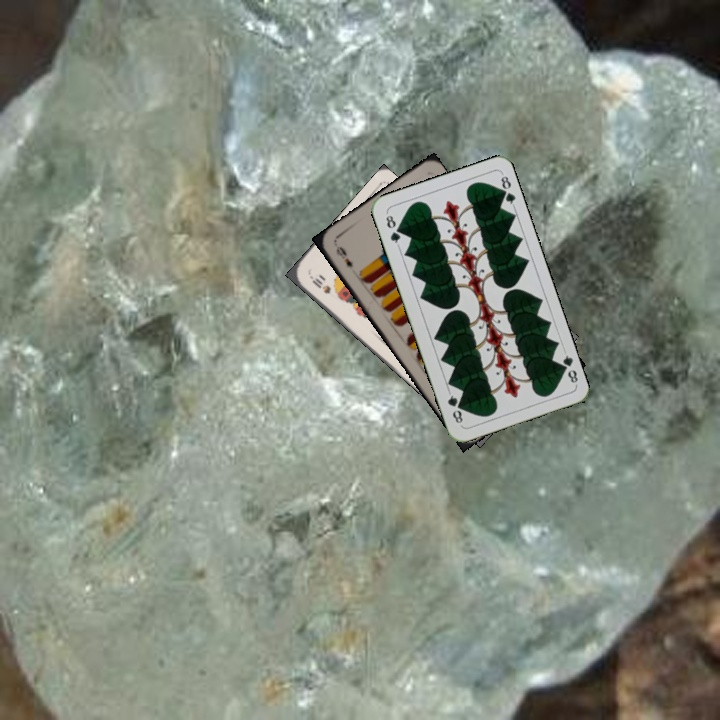E9: (332, 242, 355, 269)
G8: (555, 347, 580, 387), (382, 209, 403, 249)
S10: (305, 271, 333, 296)
